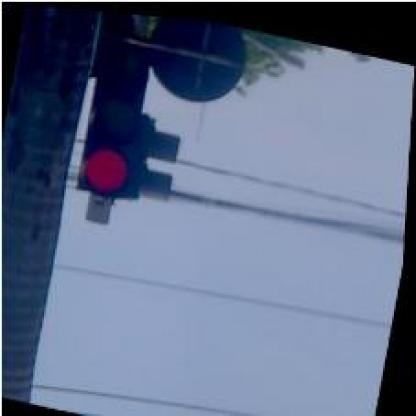red: (75, 39, 156, 199)
